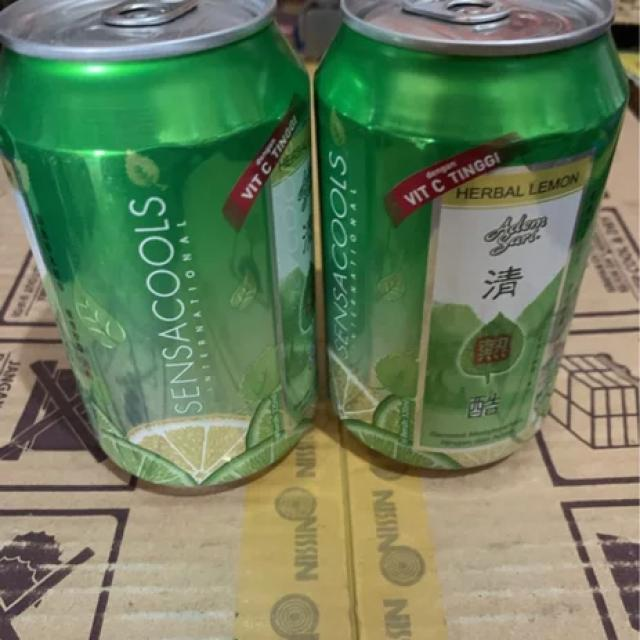ademsarikaleng: (0, 0, 319, 493), (312, 0, 632, 473)
